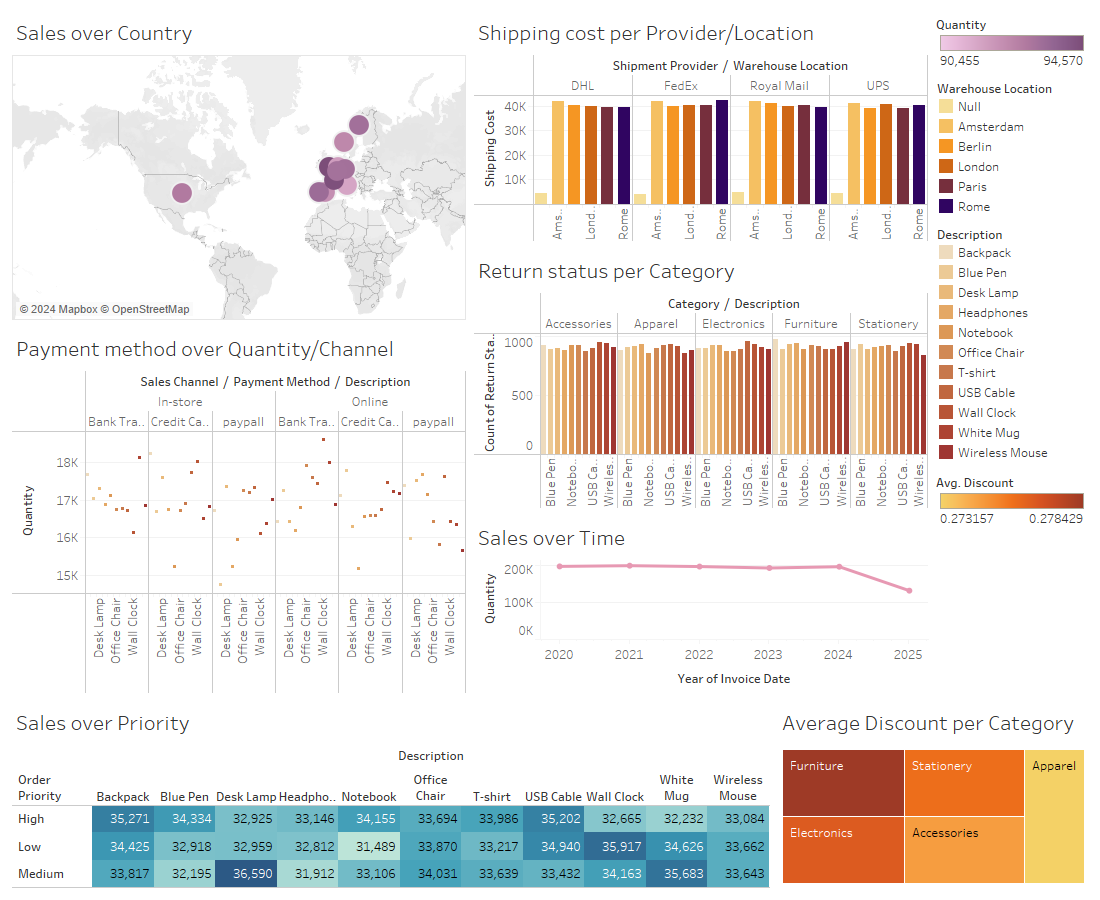

This screenshot's page, from the dashboard's own definition file:
{"tool":"tableau","page":{"name":"Dashboard for online sales data","canvas":[1100,900],"ordinal":0},"visuals":[{"type":"worksheet","title":"Sales over Country","mark":"Circle","box":[8,8,462,315.7]},{"type":"worksheet","title":"Shipping cost per Provider/Location","mark":"Automatic","rows":["ShippingCost"],"cols":["ShipmentProvider","WarehouseLocation"],"box":[470,8,462,237.9]},{"type":"legend","title":"Sales over Country","param":"[federated.0rlx09n0ul87vq10i9xzw1r0vhui].[sum:Quantity:qk]","box":[932,8,160,65]},{"type":"legend","title":"Shipping cost per Provider/Location","param":"[federated.0rlx09n0ul87vq10i9xzw1r0vhui].[none:WarehouseLocation:nk]","box":[932,73,160,146]},{"type":"legend","title":"Return status per Category","param":"[federated.0rlx09n0ul87vq10i9xzw1r0vhui].[none:Description:nk]","box":[932,219,160,246]},{"type":"worksheet","title":"Return status per Category","mark":"Automatic","rows":["ReturnStatus"],"cols":["Category","Description"],"box":[470,245.9,462,267.2]},{"type":"worksheet","title":"Payment method over Quantity/Channel","mark":"Square","rows":["Quantity"],"cols":["SalesChannel","PaymentMethod","Description"],"box":[8,323.7,462,374.3]},{"type":"legend","title":"Average Discount per Category","param":"[federated.0rlx09n0ul87vq10i9xzw1r0vhui].[avg:Discount:qk]","box":[932,465,160,65]},{"type":"worksheet","title":"Sales over Time","mark":"Automatic","rows":["Quantity"],"cols":["InvoiceDate"],"box":[470,513.1,462,184.9]},{"type":"worksheet","title":"Sales over Priority","mark":"Square","rows":["OrderPriority"],"cols":["Description"],"box":[8,698,765.6,193.9]},{"type":"worksheet","title":"Average Discount per Category","mark":"Automatic","box":[773.6,698,318.4,193.9]}]}

Visuals, with their boxes in screenshot pixels (x1, y1, x2, y2), scaled from the page's 1100x900 canvas onto the 1100x900 screenshot:
"Sales over Country" worksheet (Circle marks): locate(8, 8, 470, 324)
"Shipping cost per Provider/Location" worksheet: locate(470, 8, 932, 246)
"Sales over Country" legend: locate(932, 8, 1092, 73)
"Shipping cost per Provider/Location" legend: locate(932, 73, 1092, 219)
"Return status per Category" legend: locate(932, 219, 1092, 465)
"Return status per Category" worksheet: locate(470, 246, 932, 513)
"Payment method over Quantity/Channel" worksheet (Square marks): locate(8, 324, 470, 698)
"Average Discount per Category" legend: locate(932, 465, 1092, 530)
"Sales over Time" worksheet: locate(470, 513, 932, 698)
"Sales over Priority" worksheet (Square marks): locate(8, 698, 774, 892)
"Average Discount per Category" worksheet: locate(774, 698, 1092, 892)
